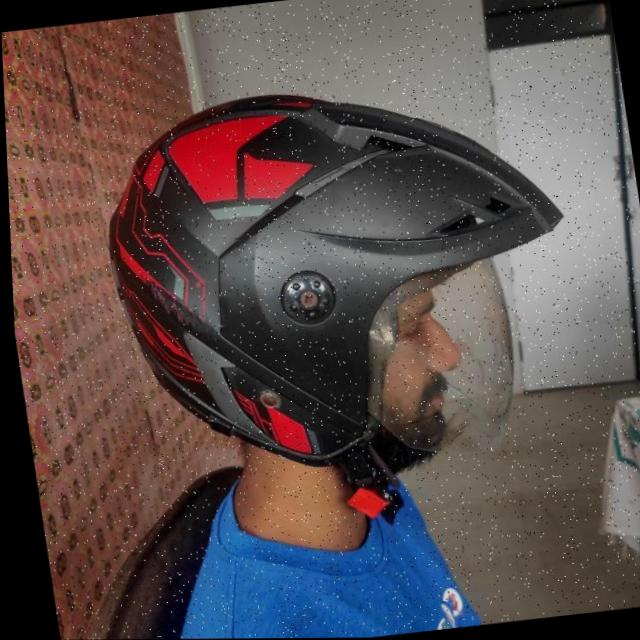helmet: (88, 65, 602, 551)
